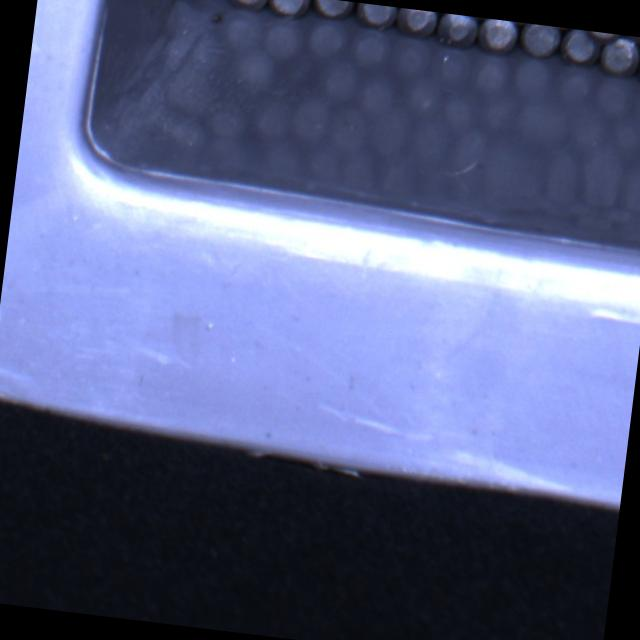tool: (558, 27, 602, 68), (598, 34, 640, 76), (436, 12, 480, 49), (517, 22, 561, 58), (476, 17, 518, 53), (393, 7, 438, 39), (355, 2, 398, 29), (309, 0, 353, 18), (266, 0, 309, 16), (225, 0, 268, 10)
